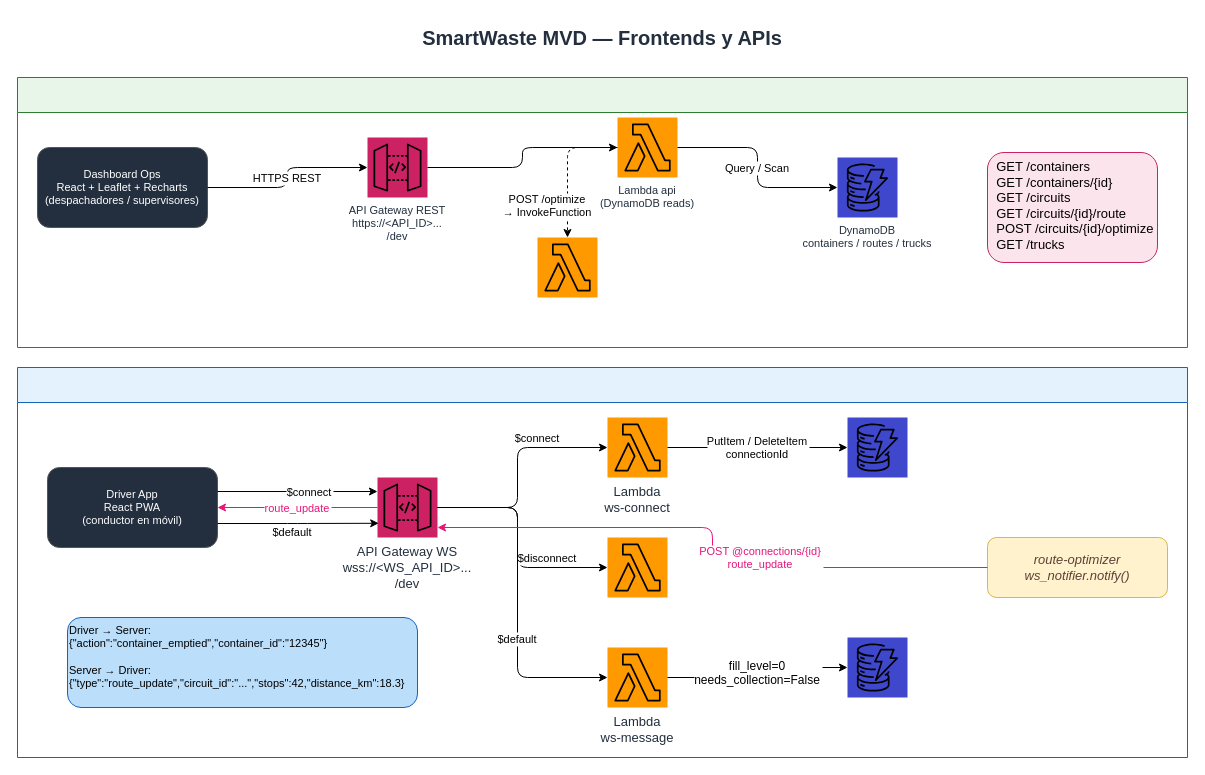
Image size: 1205x775. Some labels were removed from this diagram. Here are the shapes that lost their labels. From the top down, the box of each, then its label:
(16, 76, 1188, 348): REST API — Dashboard de Operaciones
(537, 237, 597, 297): Lambda route-optimizer (manual invocation)
(847, 417, 907, 477): DynamoDB connections {connectionId, truckId, circuitId}
(16, 366, 1188, 758): WebSocket API — App del Conductor
(607, 537, 667, 597): Lambda ws-disconnect
(847, 637, 907, 697): DynamoDB containers fill_level = 0
